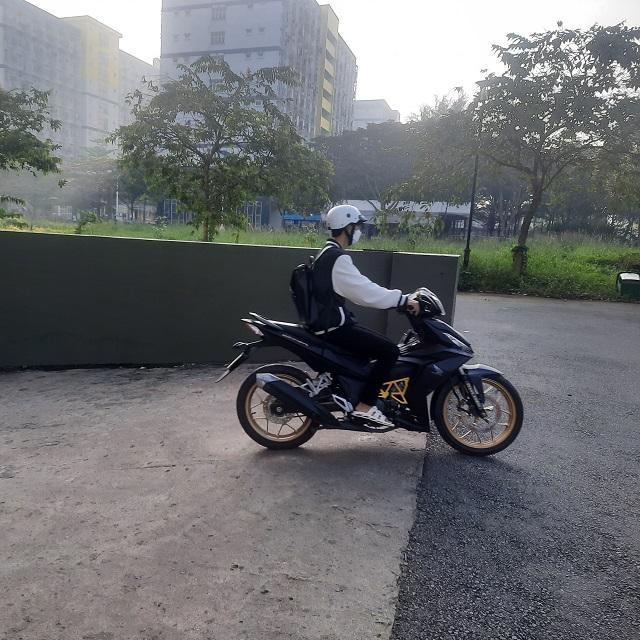Helmet: (323, 201, 367, 247)
